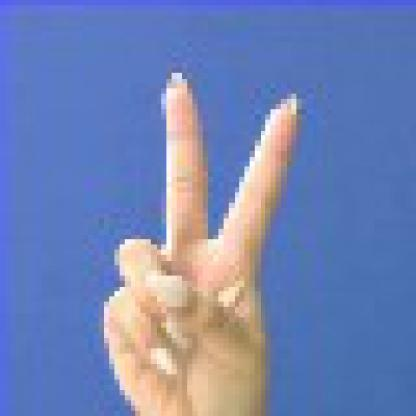two: (88, 52, 312, 411)
